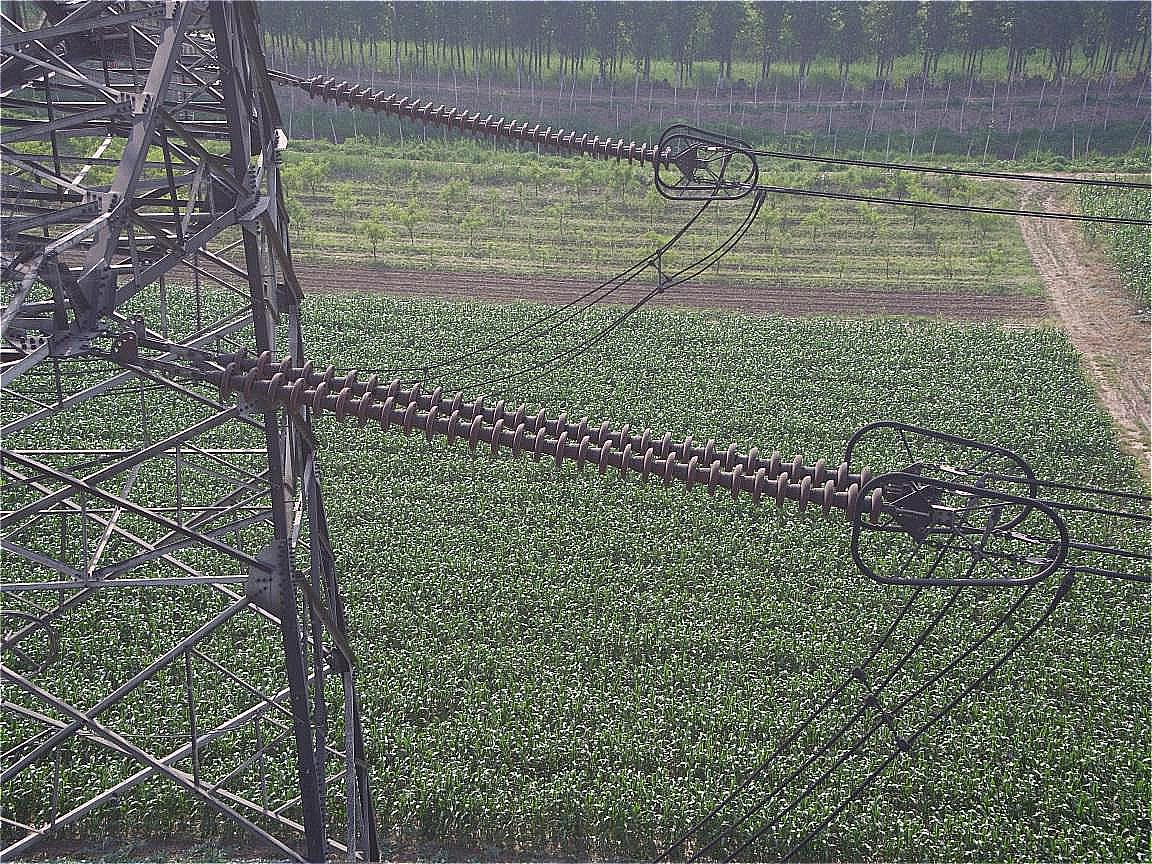insultor1: (182, 344, 913, 517), (293, 69, 678, 165)
